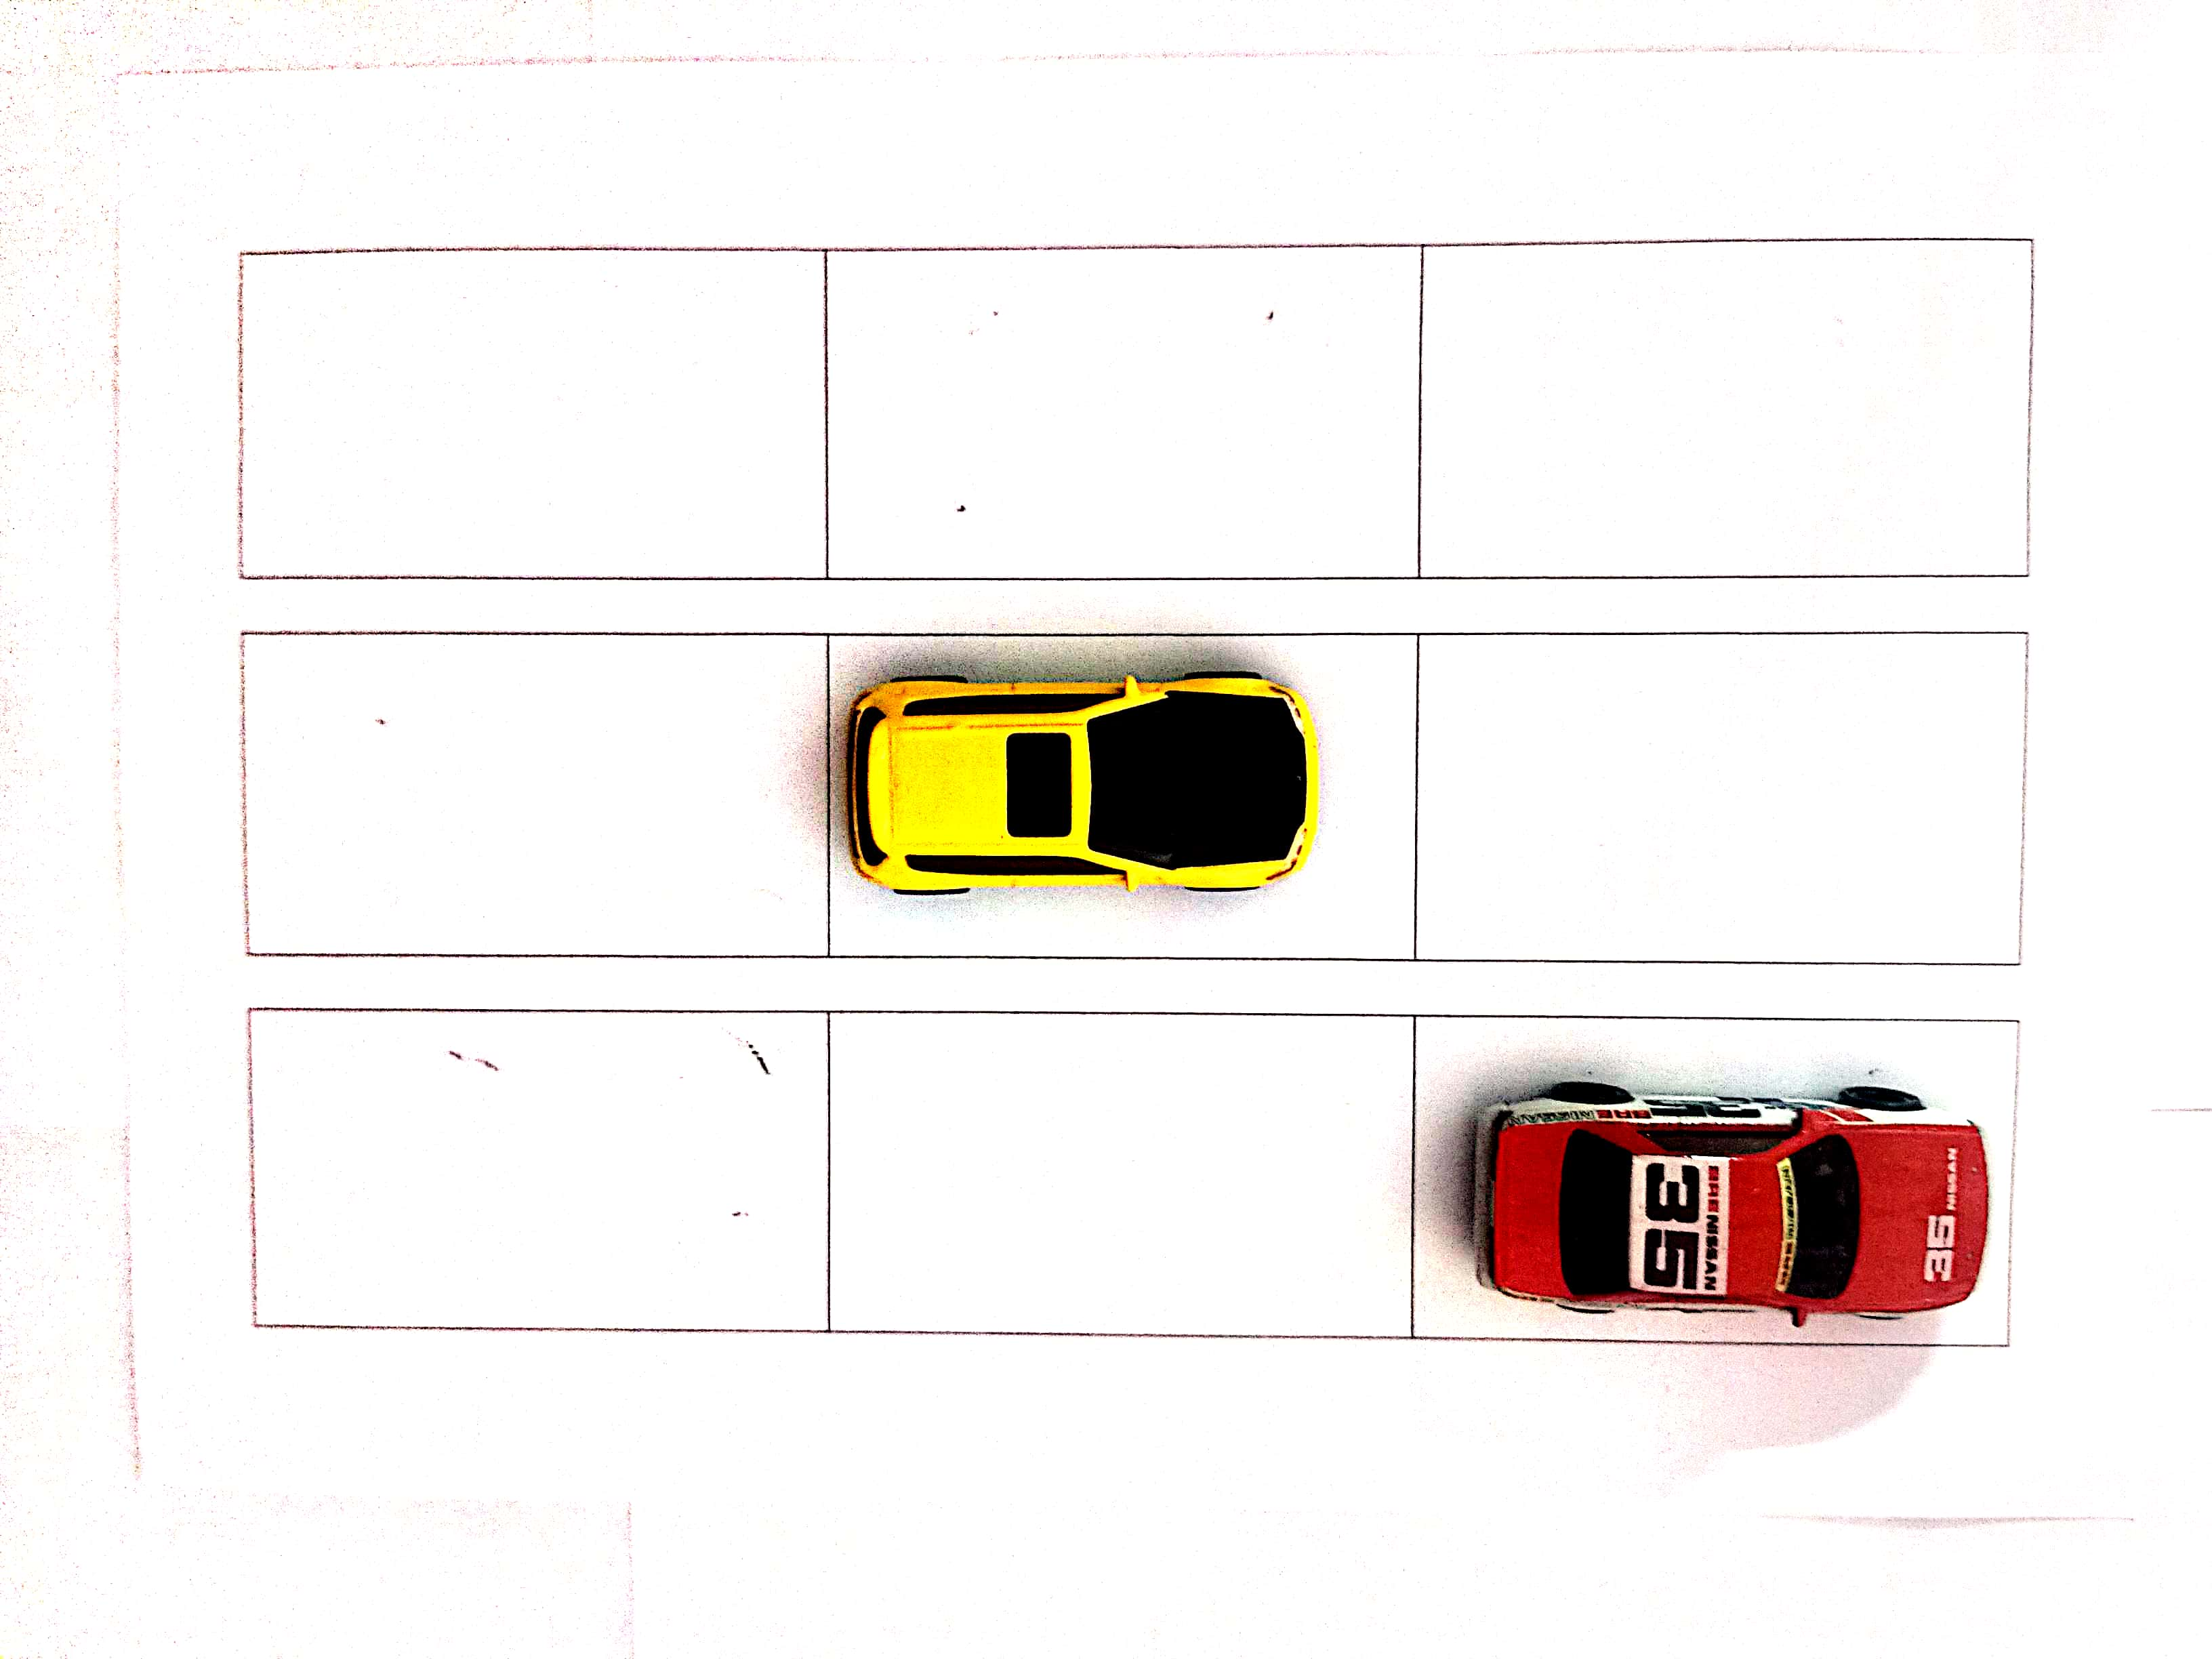Busy: (1407, 1021, 2019, 1337), (827, 640, 1414, 960)
Free: (1423, 230, 2027, 575), (235, 240, 824, 577), (1414, 634, 2022, 957), (824, 247, 1421, 575), (827, 1011, 1409, 1333), (253, 1006, 827, 1331), (244, 631, 829, 946)
